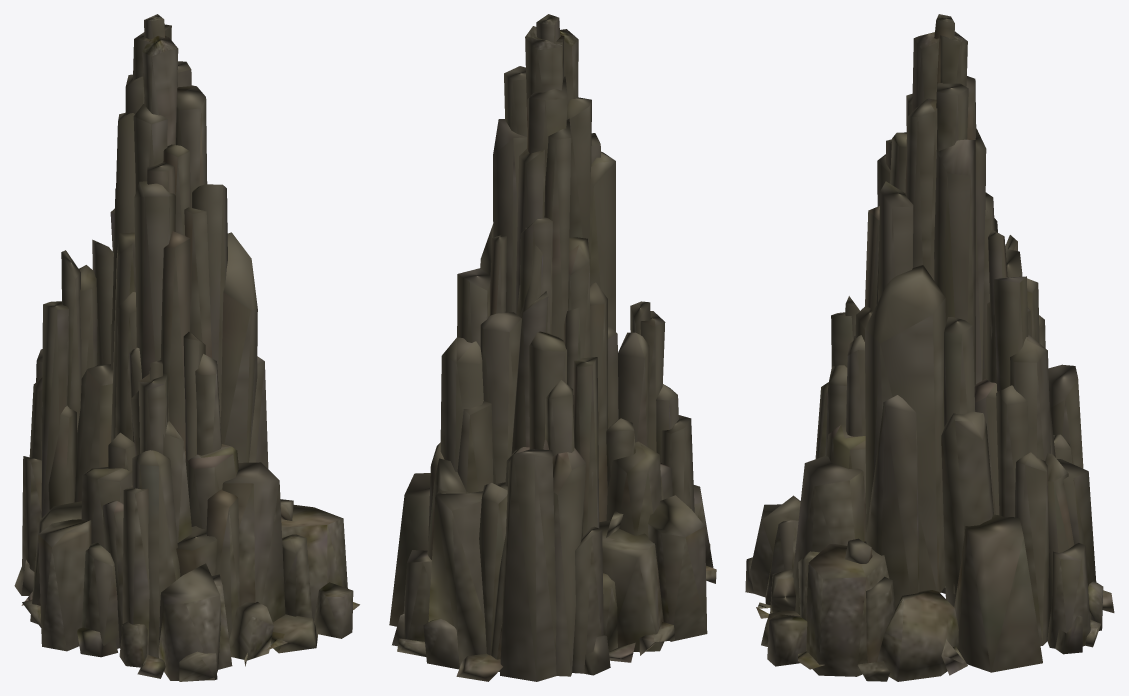
The model's file is x_rock_single_D.glb.
3 renders of one model, left to right at view 1: azimuth 30°, elevation 25°; view 2: azimuth 150°, elevation 25°; view 3: azimuth 270°, elevation 25°, orthographic. The views are drawn at different scales.
Visible parts, largest first — view 1: x_rock_single_D; view 2: x_rock_single_D; view 3: x_rock_single_D.
Boxes of the visible parts, x1=… form: x_rock_single_D: x1=14, y1=14, x2=359, y2=681; x_rock_single_D: x1=389, y1=14, x2=716, y2=681; x_rock_single_D: x1=745, y1=14, x2=1114, y2=681.
Bounding box in the file's own units: 0.2866 × 0.5726 × 0.323.
Materials: 1 (1 with a texture image).
